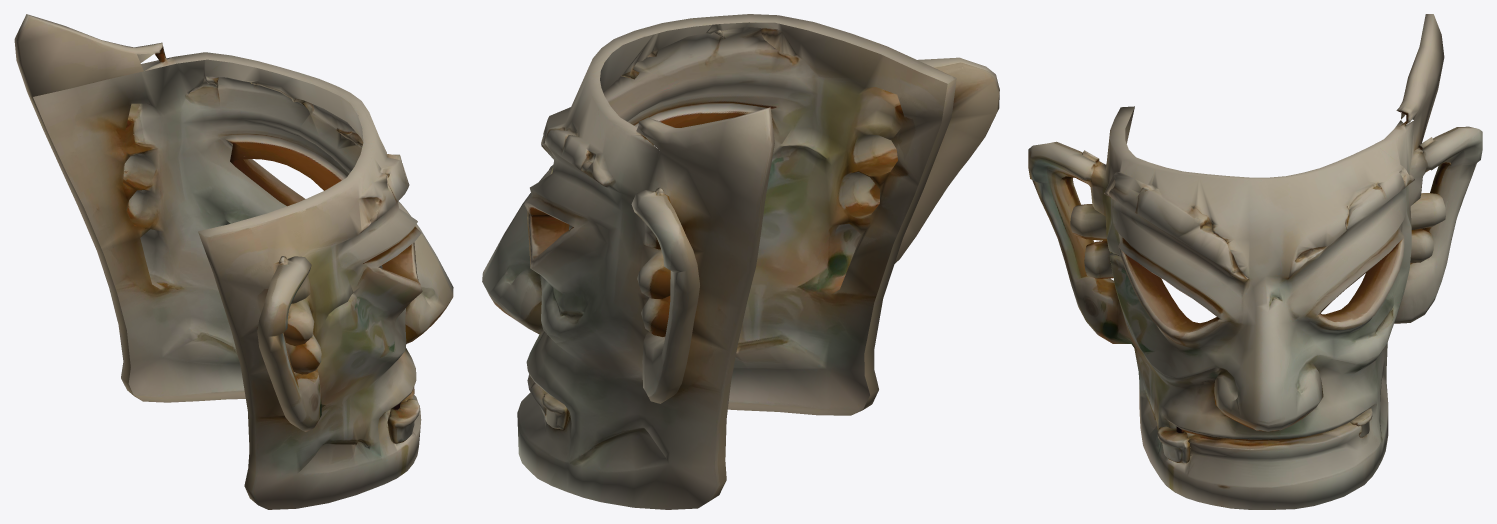
The model's file is cheekbone.glb.
3 renders of one model, left to right at view 1: azimuth 30°, elevation 25°; view 2: azimuth 150°, elevation 25°; view 3: azimuth 270°, elevation 25°, orthographic. The views are drawn at different scales.
Parts seen in each view (by area): view 1: tripo_node_2be73c11-1d79-49c0-b7b5-74f94fbdfe37; view 2: tripo_node_2be73c11-1d79-49c0-b7b5-74f94fbdfe37; view 3: tripo_node_2be73c11-1d79-49c0-b7b5-74f94fbdfe37.
Boxes of the visible parts, x1,y1,x2,y2 form: tripo_node_2be73c11-1d79-49c0-b7b5-74f94fbdfe37: (14,14,453,509); tripo_node_2be73c11-1d79-49c0-b7b5-74f94fbdfe37: (482,14,999,509); tripo_node_2be73c11-1d79-49c0-b7b5-74f94fbdfe37: (1028,14,1482,509).
Bounding box in the file's own units: 0.791 × 0.9043 × 0.998.
1 material, 1 textured.
